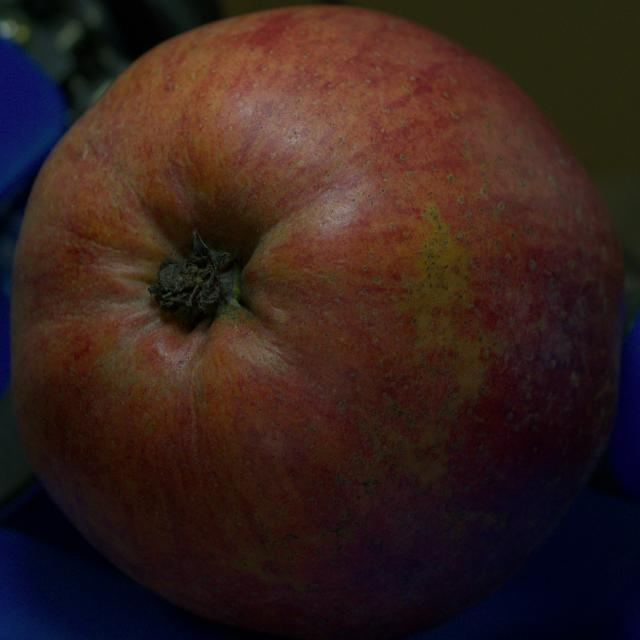apple: (11, 6, 624, 639)
